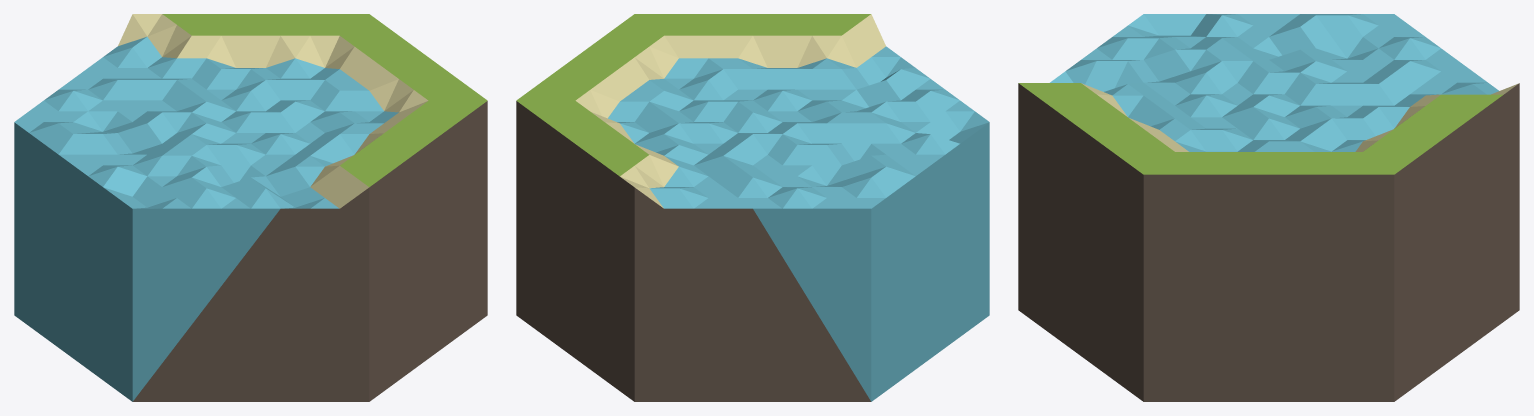
The model's file is coast3.fbx.
The picture shows the model from 3 angles, left to right: view 1: azimuth 30°, elevation 25°; view 2: azimuth 150°, elevation 25°; view 3: azimuth 270°, elevation 25°; orthographic projection. The views are drawn at different scales.
Parts seen in each view (by area): view 1: Cylinder; view 2: Cylinder; view 3: Cylinder.
Boxes of the visible parts, x1,y1,x2,y2 form: Cylinder: [14, 14, 487, 401]; Cylinder: [516, 14, 989, 401]; Cylinder: [1018, 14, 1519, 401].
Size of the model in its own units: 1.73 by 1 by 2.
